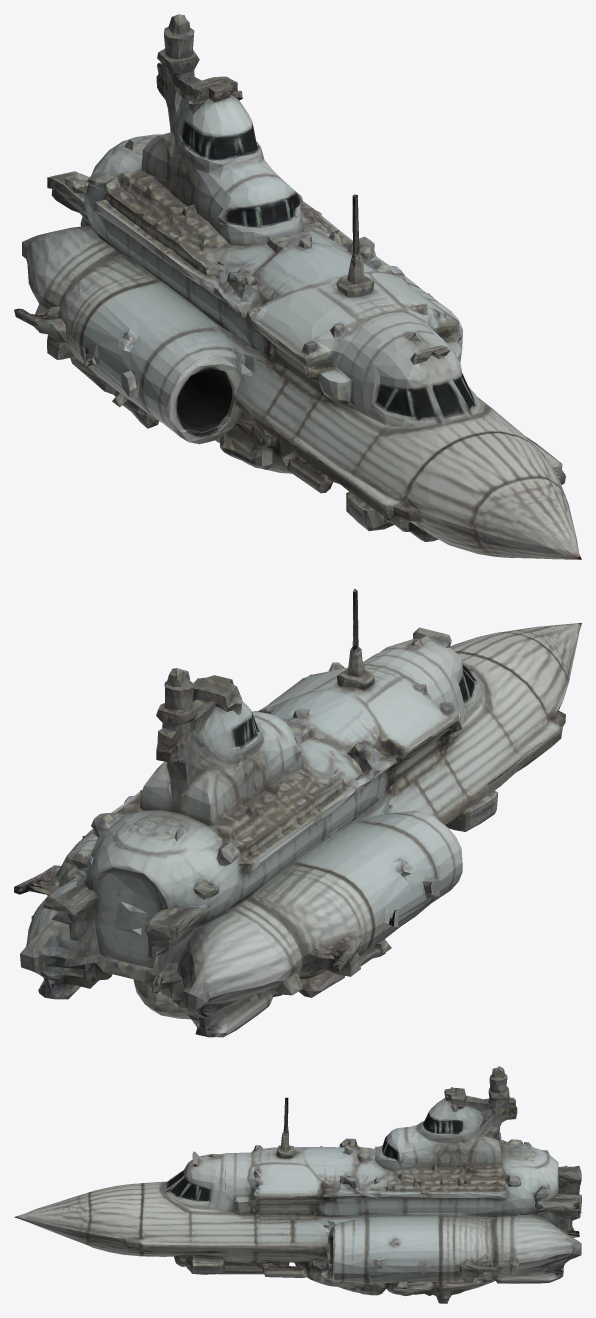
File: Frostfall Trader.glb
3 renders of one model, top to bottom at view 1: azimuth 30°, elevation 25°; view 2: azimuth 150°, elevation 25°; view 3: azimuth 270°, elevation 25°, orthographic. The views are drawn at different scales.
Visible parts, largest first — view 1: world; view 2: world; view 3: world.
Boxes of the visible parts, x1,y1,x2,y2 form: world: (14, 14, 581, 559); world: (14, 588, 581, 1037); world: (14, 1066, 581, 1303).
Size of the model in its own units: 0.3963 by 0.4556 by 0.9976.
Materials: 1 (1 with a texture image).
